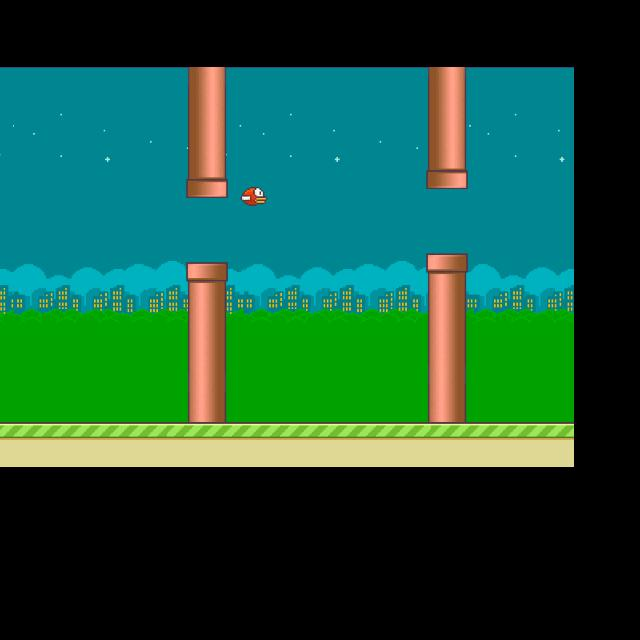bird: (240, 187, 267, 206)
pipedown: (427, 254, 468, 418), (186, 263, 227, 416)
pipeup: (187, 78, 227, 198), (427, 73, 466, 188)
